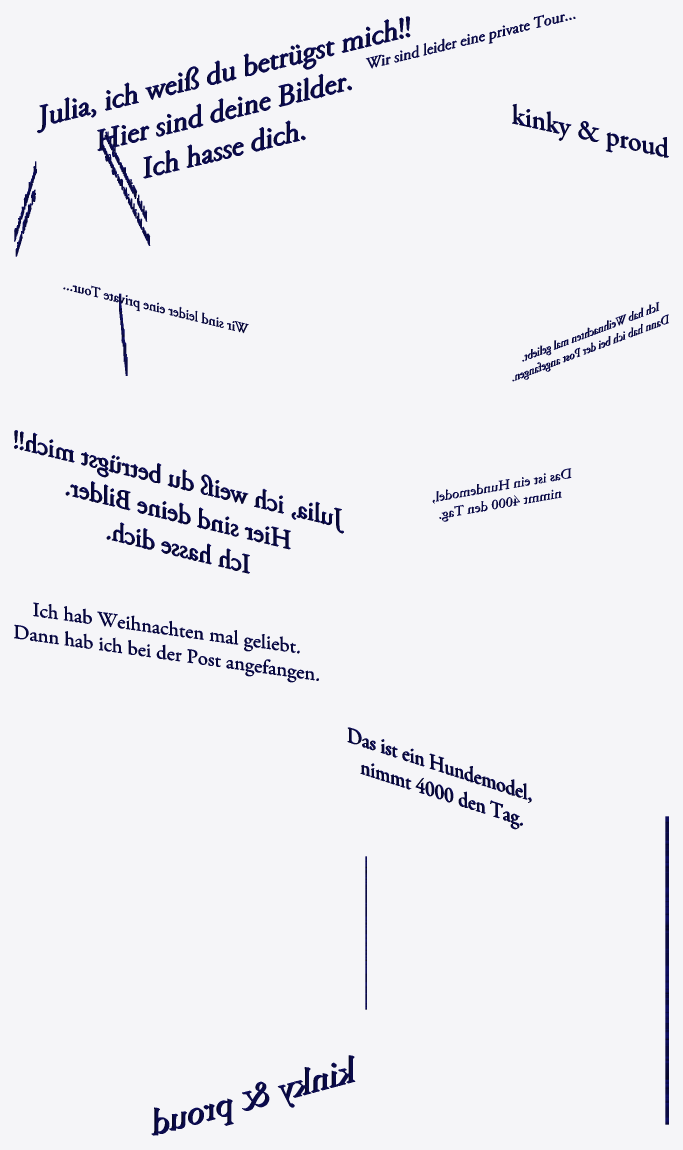
The model's file is Julia.glb.
3 renders of one model, top to bottom at view 1: azimuth 30°, elevation 25°; view 2: azimuth 150°, elevation 25°; view 3: azimuth 270°, elevation 25°, orthographic. The views are drawn at different scales.
Parts seen in each view (by area): view 1: Text, Text.001, Text.004, Text.003, Text.002; view 2: Text, Text.003, Text.002, Text.004; view 3: Text.003, Text.002, Text.001, Text.
Boxes of the visible parts, <box> form: Text: <box>37,16,410,178</box>; Text.001: <box>512,104,668,157</box>; Text.004: <box>366,14,575,68</box>; Text.003: <box>101,131,150,245</box>; Text.002: <box>14,161,36,256</box>; Text: <box>14,430,343,573</box>; Text.003: <box>512,302,668,381</box>; Text.002: <box>432,468,571,521</box>; Text.004: <box>63,285,248,332</box>; Text.003: <box>14,602,318,682</box>; Text.002: <box>347,727,531,829</box>; Text.001: <box>151,1055,355,1135</box>; Text: <box>665,816,668,1124</box>.
Size of the model in its own units: 523 by 166 by 373.
